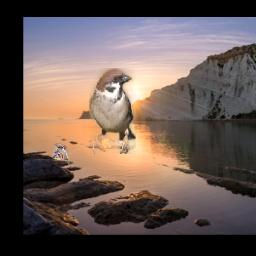Sparrow: (89, 69, 136, 155), (53, 143, 74, 168)
